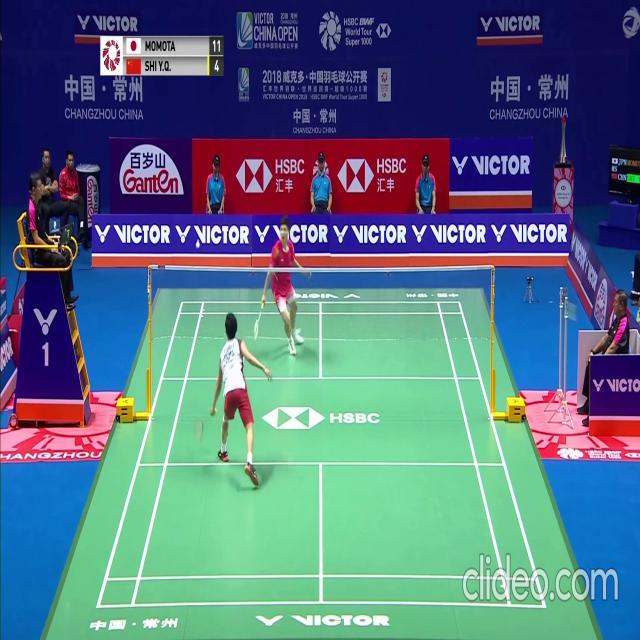Shuttlecock: (195, 240, 200, 247)
